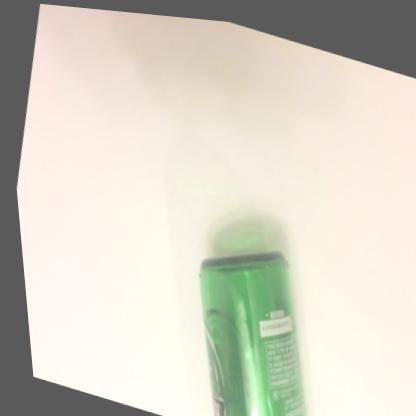Glass: (193, 246, 298, 416)
